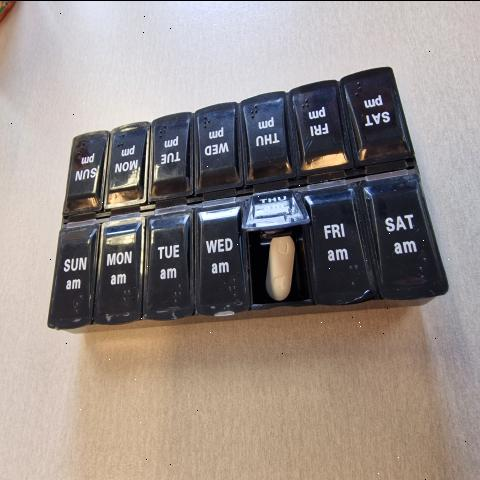Open: (244, 207, 311, 306)
